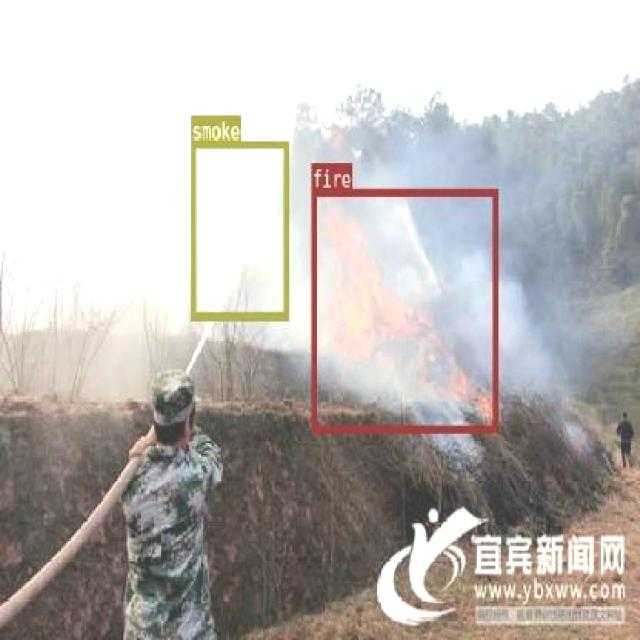fire: (312, 188, 496, 432)
smoke: (190, 139, 287, 318)
